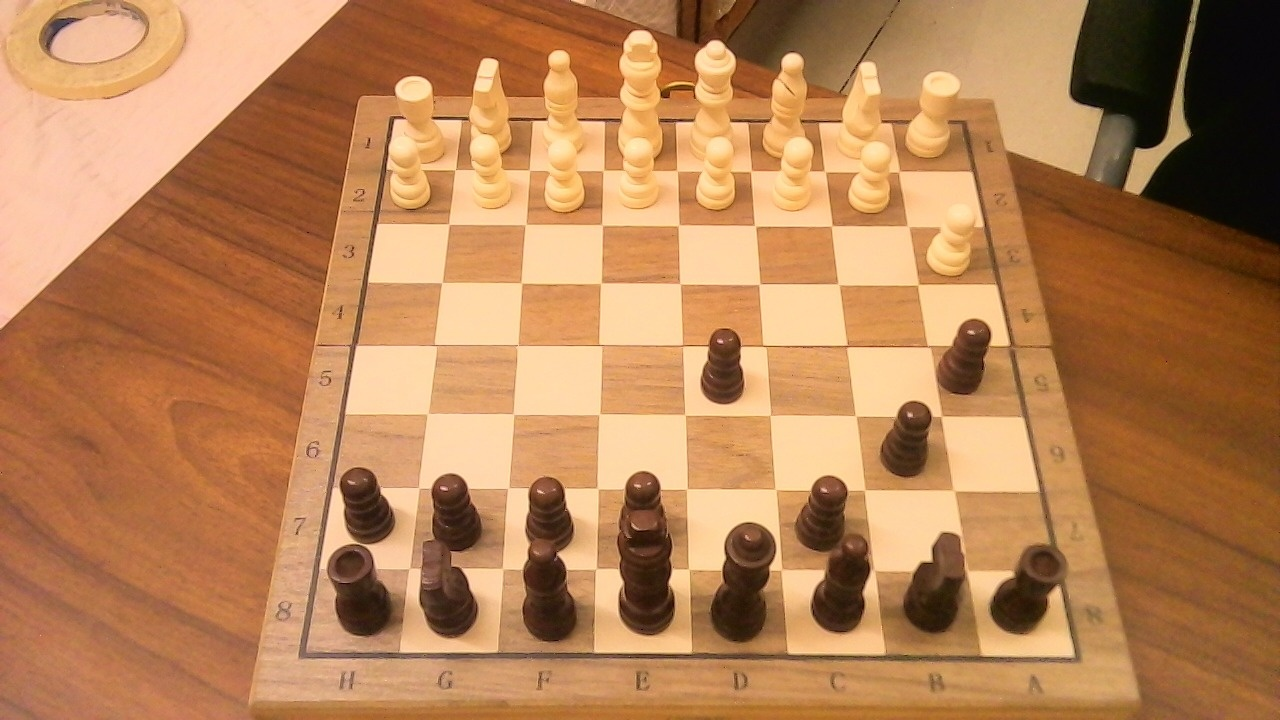B: (757, 42, 817, 164), (535, 38, 594, 160)
K: (609, 18, 672, 162)
N: (828, 48, 891, 166), (461, 48, 520, 158)
P: (921, 194, 986, 278), (763, 127, 823, 217), (460, 124, 518, 214), (840, 133, 901, 217), (610, 127, 667, 215), (688, 127, 744, 216), (535, 130, 592, 217), (382, 127, 438, 211)
Q: (682, 29, 746, 166)
R: (899, 61, 966, 162), (391, 67, 451, 166)
b: (510, 539, 590, 645), (813, 521, 885, 638)
k: (610, 520, 680, 640)
n: (411, 525, 488, 642), (905, 530, 968, 632)
p: (329, 456, 406, 544), (422, 461, 493, 552), (874, 388, 943, 480), (937, 306, 1001, 397), (522, 477, 576, 550), (618, 470, 668, 545), (803, 475, 853, 550), (700, 330, 745, 405)
q: (701, 510, 790, 647)
r: (985, 531, 1077, 637), (323, 533, 401, 638)
